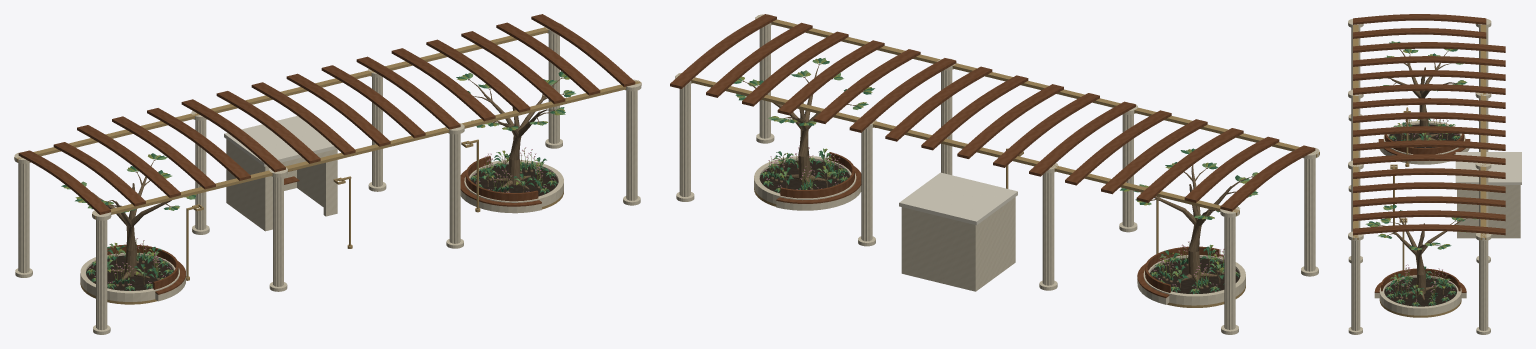
The model's file is G7_Completion_R007_G7C7_D09_ForeGardenCourt.glb.
3 views of the same model, side by side, from view 1: azimuth 30°, elevation 25°; view 2: azimuth 150°, elevation 25°; view 3: azimuth 270°, elevation 25° (orthographic). The views are drawn at different scales.
Parts seen in each view (by area): view 1: G7C7_D09_ForeGardenCourt_G7C7_wood_solid_roof, G7C7_D09_ForeGardenCourt_G7C7_stone_solid_frame, G7C7_D09_ForeGardenCourt_G7C7_metal_solid_frame, G7C7_D09_ForeGardenCourt_G7C7_bark_solid_tree_bark, G7C7_D09_ForeGardenCourt_G7C7_soil_solid_planter, G7C7_D09_ForeGardenCourt_G7C7_wood_solid_furniture, G7C7_D09_ForeGardenCourt_G7C7_roof_solid_roof, G7C7_D09_ForeGardenCourt_G7C7_stone_solid_planter, G7C7_D09_ForeGardenCourt_G7C7_metal_solid_fixture, G7C7_D09_ForeGardenCourt_G7C7_stone_solid_furniture, G7C7_D09_ForeGardenCourt_ASTRAEA_botanical_leaf_olive.004_vi, G7C7_D09_ForeGardenCourt_ASTRAEA_botanical_leaf_jade.001_vis (+2 smaller); view 2: G7C7_D09_ForeGardenCourt_G7C7_wood_solid_roof, G7C7_D09_ForeGardenCourt_G7C7_stone_solid_frame, G7C7_D09_ForeGardenCourt_G7C7_metal_solid_frame, G7C7_D09_ForeGardenCourt_G7C7_roof_solid_roof, G7C7_D09_ForeGardenCourt_G7C7_soil_solid_planter, G7C7_D09_ForeGardenCourt_G7C7_bark_solid_tree_bark, G7C7_D09_ForeGardenCourt_G7C7_wood_solid_furniture, G7C7_D09_ForeGardenCourt_G7C7_stone_solid_planter, G7C7_D09_ForeGardenCourt_G7C7_stone_solid_furniture, G7C7_D09_ForeGardenCourt_G7C7_jade_visual_foliage, G7C7_D09_ForeGardenCourt_ASTRAEA_botanical_leaf_olive.004_vi, G7C7_D09_ForeGardenCourt_ASTRAEA_botanical_leaf_jade.001_vis (+1 smaller); view 3: G7C7_D09_ForeGardenCourt_G7C7_wood_solid_roof, G7C7_D09_ForeGardenCourt_G7C7_stone_solid_frame, G7C7_D09_ForeGardenCourt_G7C7_bark_solid_tree_bark, G7C7_D09_ForeGardenCourt_G7C7_soil_solid_planter, G7C7_D09_ForeGardenCourt_G7C7_metal_solid_frame, G7C7_D09_ForeGardenCourt_G7C7_roof_solid_roof, G7C7_D09_ForeGardenCourt_G7C7_stone_solid_planter, G7C7_D09_ForeGardenCourt_G7C7_wood_solid_furniture, G7C7_D09_ForeGardenCourt_G7C7_metal_solid_fixture, G7C7_D09_ForeGardenCourt_ASTRAEA_botanical_leaf_olive.004_vi, G7C7_D09_ForeGardenCourt_G7C7_stone_solid_furniture, G7C7_D09_ForeGardenCourt_G7C7_jade_visual_foliage (+9 smaller).
Boxes of the visible parts, x1=… form: G7C7_D09_ForeGardenCourt_G7C7_wood_solid_roof: x1=18, y1=14, x2=635, y2=214; G7C7_D09_ForeGardenCourt_G7C7_stone_solid_frame: x1=14, y1=23, x2=641, y2=334; G7C7_D09_ForeGardenCourt_G7C7_metal_solid_frame: x1=14, y1=27, x2=641, y2=218; G7C7_D09_ForeGardenCourt_G7C7_bark_solid_tree_bark: x1=92, y1=77, x2=563, y2=282; G7C7_D09_ForeGardenCourt_G7C7_soil_solid_planter: x1=86, y1=164, x2=558, y2=290; G7C7_D09_ForeGardenCourt_G7C7_wood_solid_furniture: x1=107, y1=156, x2=541, y2=294; G7C7_D09_ForeGardenCourt_G7C7_roof_solid_roof: x1=224, y1=116, x2=336, y2=166; G7C7_D09_ForeGardenCourt_G7C7_stone_solid_planter: x1=80, y1=160, x2=563, y2=301; G7C7_D09_ForeGardenCourt_G7C7_metal_solid_fixture: x1=186, y1=139, x2=480, y2=280; G7C7_D09_ForeGardenCourt_G7C7_stone_solid_furniture: x1=155, y1=190, x2=541, y2=301; G7C7_D09_ForeGardenCourt_ASTRAEA_botanical_leaf_olive.004_vi: x1=113, y1=148, x2=542, y2=284; G7C7_D09_ForeGardenCourt_ASTRAEA_botanical_leaf_jade.001_vis: x1=107, y1=153, x2=548, y2=277; G7C7_D09_ForeGardenCourt_G7C7_wood_solid_roof: x1=670, y1=14, x2=1315, y2=211; G7C7_D09_ForeGardenCourt_G7C7_stone_solid_frame: x1=675, y1=14, x2=1319, y2=334; G7C7_D09_ForeGardenCourt_G7C7_metal_solid_frame: x1=675, y1=15, x2=1319, y2=215; G7C7_D09_ForeGardenCourt_G7C7_roof_solid_roof: x1=899, y1=172, x2=1017, y2=225; G7C7_D09_ForeGardenCourt_G7C7_soil_solid_planter: x1=759, y1=160, x2=1240, y2=293; G7C7_D09_ForeGardenCourt_G7C7_bark_solid_tree_bark: x1=742, y1=63, x2=1253, y2=282; G7C7_D09_ForeGardenCourt_G7C7_wood_solid_furniture: x1=776, y1=152, x2=1223, y2=297; G7C7_D09_ForeGardenCourt_G7C7_stone_solid_planter: x1=754, y1=156, x2=1245, y2=305; G7C7_D09_ForeGardenCourt_G7C7_stone_solid_furniture: x1=776, y1=185, x2=1169, y2=304; G7C7_D09_ForeGardenCourt_G7C7_jade_visual_foliage: x1=734, y1=58, x2=1257, y2=219; G7C7_D09_ForeGardenCourt_ASTRAEA_botanical_leaf_olive.004_vi: x1=769, y1=154, x2=1223, y2=288; G7C7_D09_ForeGardenCourt_ASTRAEA_botanical_leaf_jade.001_vis: x1=775, y1=150, x2=1224, y2=282; G7C7_D09_ForeGardenCourt_G7C7_wood_solid_roof: x1=1353, y1=14, x2=1505, y2=235; G7C7_D09_ForeGardenCourt_G7C7_stone_solid_frame: x1=1348, y1=19, x2=1520, y2=334; G7C7_D09_ForeGardenCourt_G7C7_bark_solid_tree_bark: x1=1375, y1=49, x2=1467, y2=300; G7C7_D09_ForeGardenCourt_G7C7_soil_solid_planter: x1=1384, y1=124, x2=1460, y2=306; G7C7_D09_ForeGardenCourt_G7C7_metal_solid_frame: x1=1353, y1=25, x2=1486, y2=239; G7C7_D09_ForeGardenCourt_G7C7_roof_solid_roof: x1=1455, y1=152, x2=1521, y2=184; G7C7_D09_ForeGardenCourt_G7C7_stone_solid_planter: x1=1379, y1=121, x2=1465, y2=315; G7C7_D09_ForeGardenCourt_G7C7_wood_solid_furniture: x1=1374, y1=133, x2=1470, y2=292; G7C7_D09_ForeGardenCourt_G7C7_metal_solid_fixture: x1=1390, y1=107, x2=1410, y2=269; G7C7_D09_ForeGardenCourt_ASTRAEA_botanical_leaf_olive.004_vi: x1=1394, y1=119, x2=1447, y2=299; G7C7_D09_ForeGardenCourt_G7C7_stone_solid_furniture: x1=1374, y1=148, x2=1469, y2=298; G7C7_D09_ForeGardenCourt_G7C7_jade_visual_foliage: x1=1367, y1=41, x2=1467, y2=250.
Bounding box in the file's own units: 27.22 × 6 × 9.12.
Materials: 24 (23 with a texture image).
